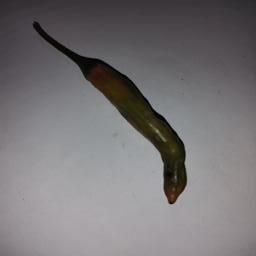Buah Cabai Sehat: (74, 55, 189, 205)
